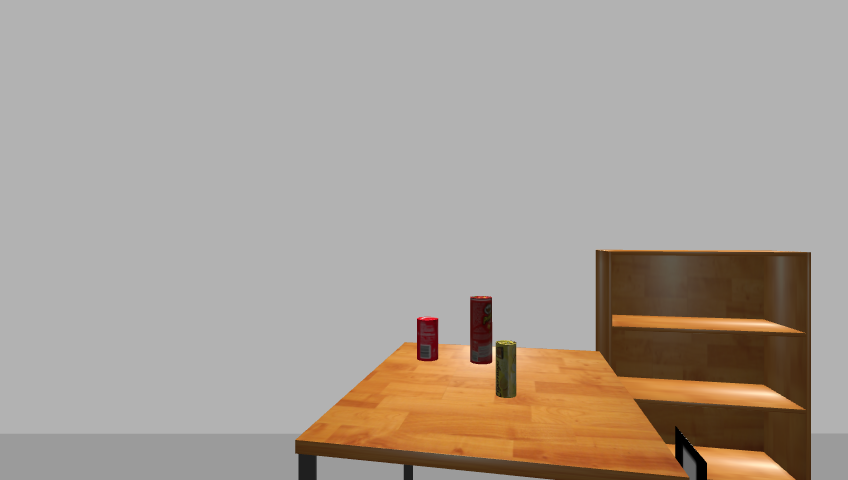aruco marker: (671, 427, 711, 480)
biscuits pack: (495, 340, 519, 399)
bookshelf: (590, 248, 819, 479)
coke can: (415, 316, 441, 363)
dinner table: (289, 340, 691, 480)
pringles can: (467, 295, 495, 366)
